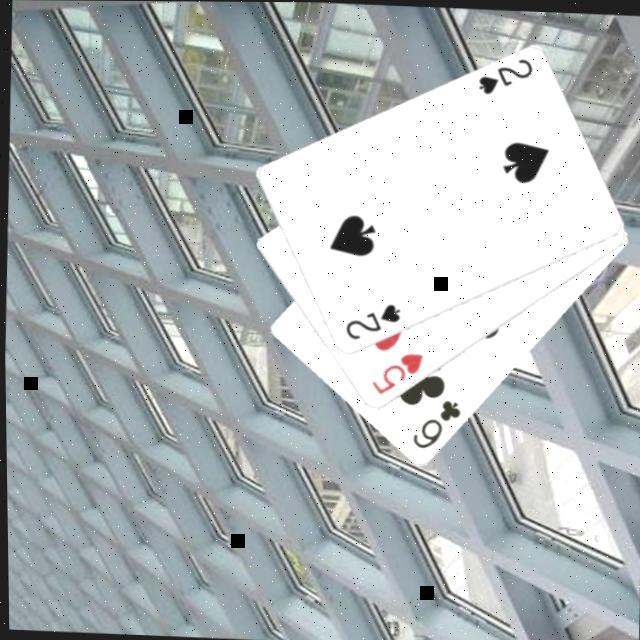2S: (337, 299, 400, 345), (471, 54, 534, 100)
5H: (363, 349, 424, 400)
6C: (405, 396, 462, 454)
